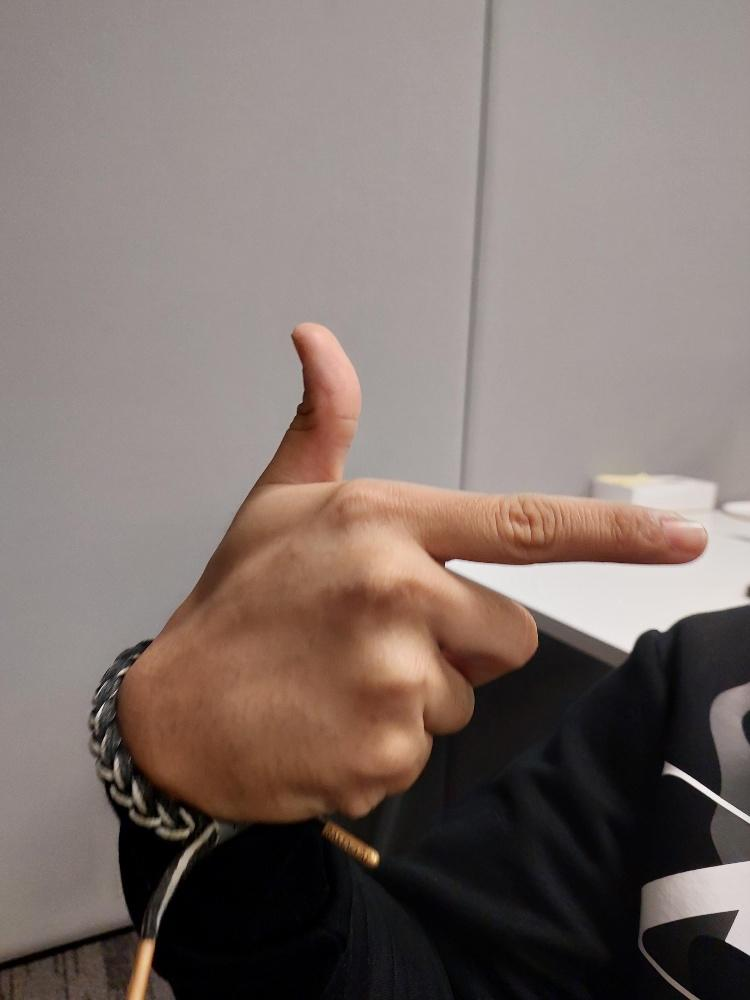g: (115, 319, 712, 827)
